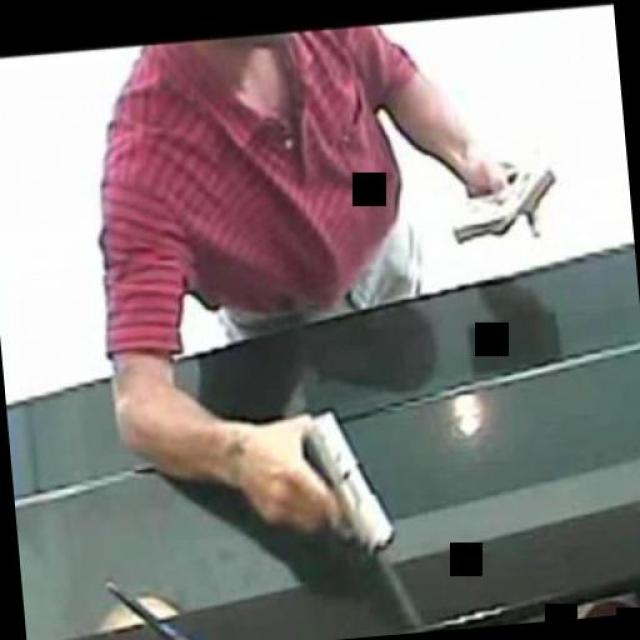gun: (256, 399, 396, 561)
